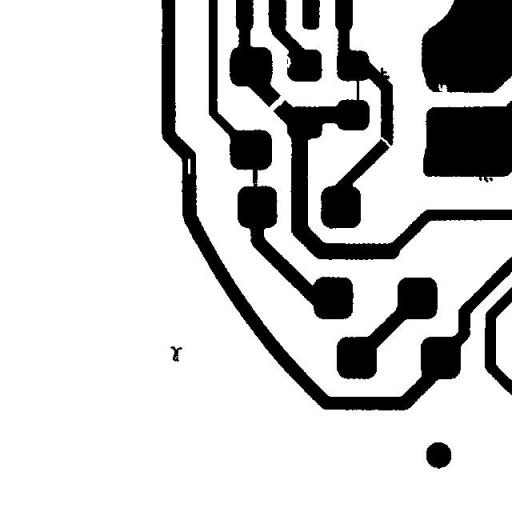copper: (162, 338, 190, 369)
mousebite: (430, 76, 454, 102), (278, 47, 298, 75)
open: (262, 85, 294, 118), (373, 129, 399, 155)
pin-hole: (180, 150, 198, 182)
short: (245, 158, 265, 198), (349, 68, 366, 112)
spur: (471, 166, 500, 190), (373, 60, 397, 86)
